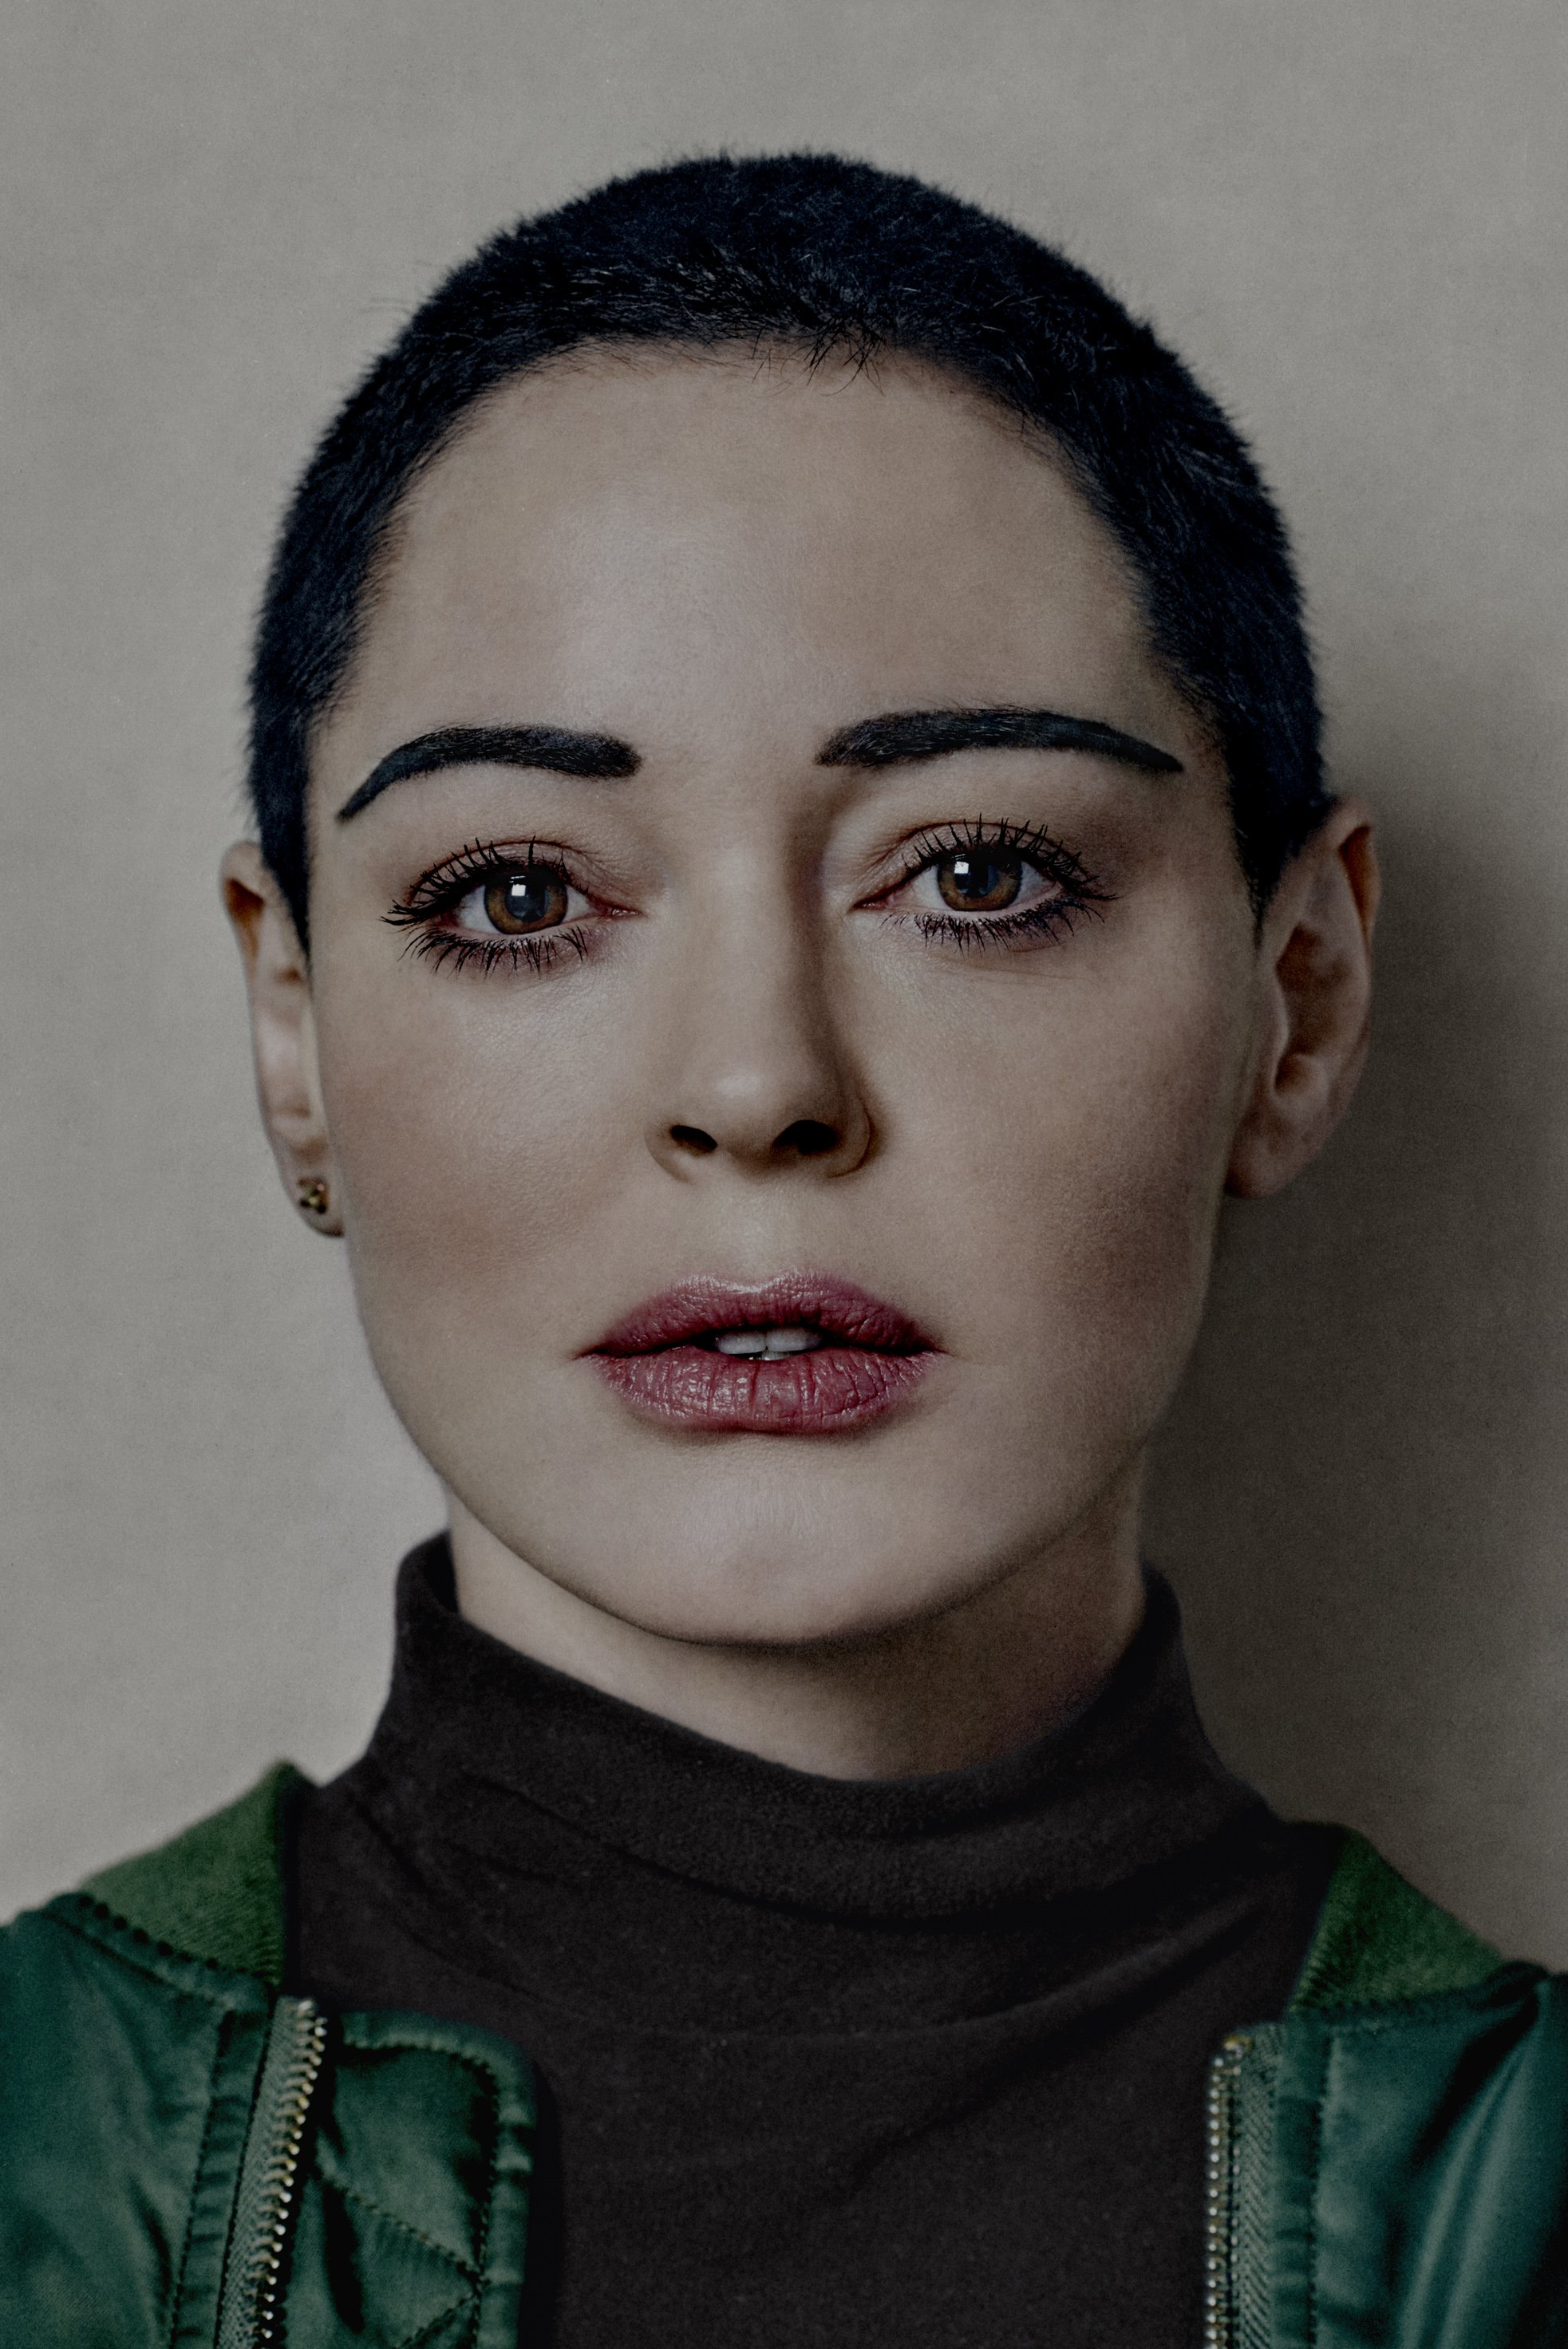noMask: (168, 156, 1452, 1663)
